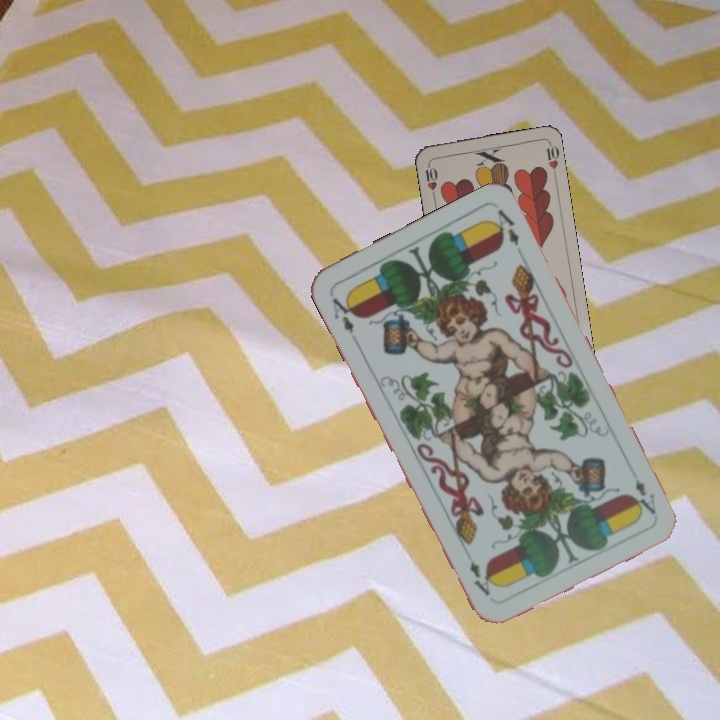EA: (328, 291, 359, 336), (627, 475, 659, 517)
H10: (420, 159, 440, 199)
